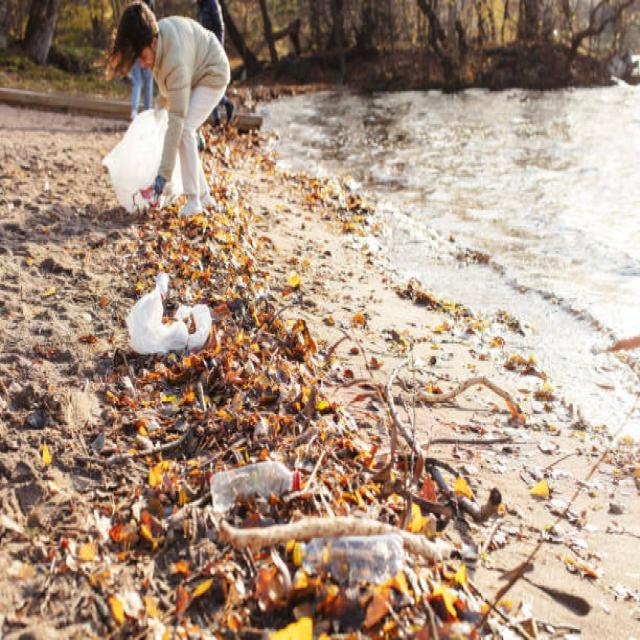trash: (21, 152, 309, 582)
